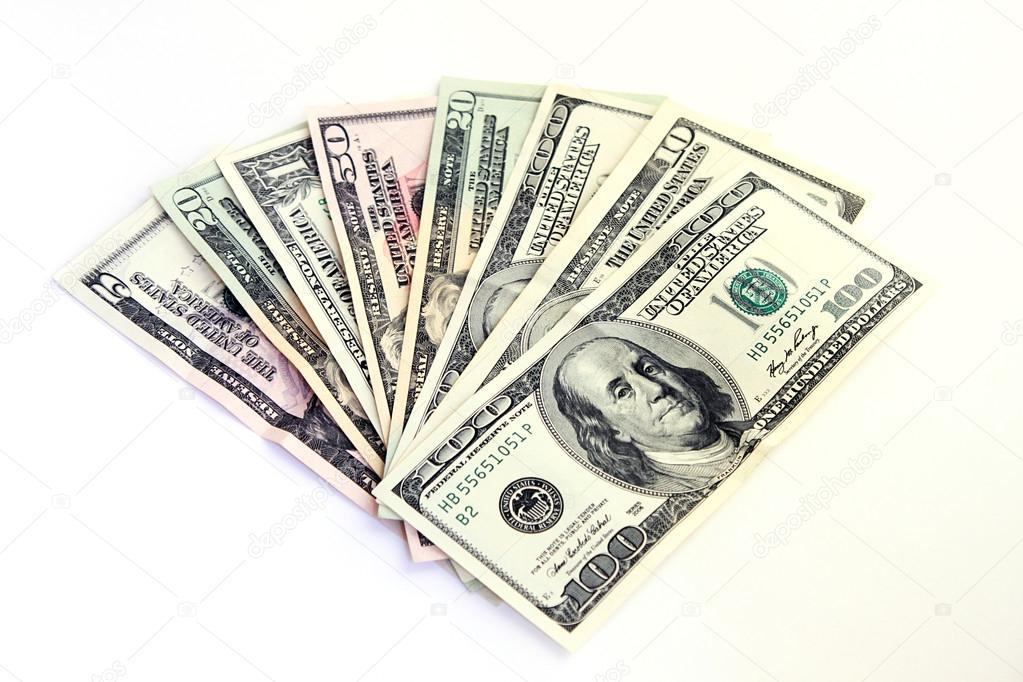billete: (50, 70, 945, 655)
